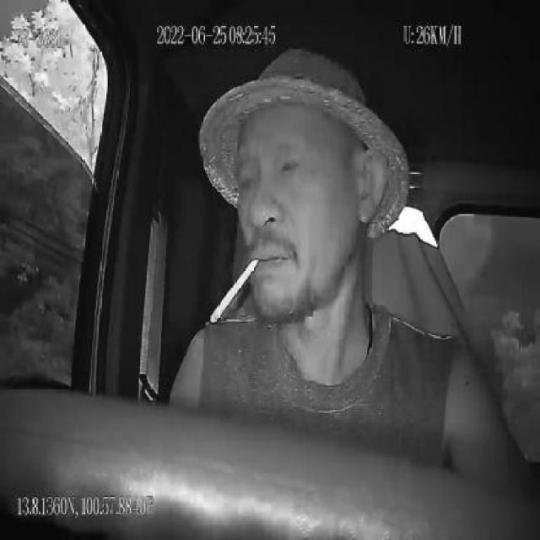smoking: (210, 256, 261, 325)
